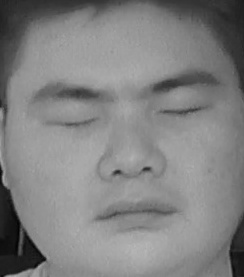blink: (42, 99, 101, 140), (158, 91, 212, 128)
mouth: (92, 188, 182, 232)
